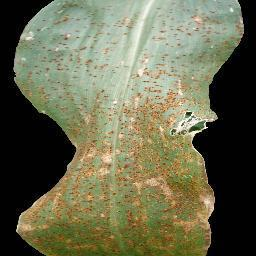Corn_Common_Rust: (88, 0, 246, 256), (13, 0, 88, 147), (16, 146, 88, 256)
